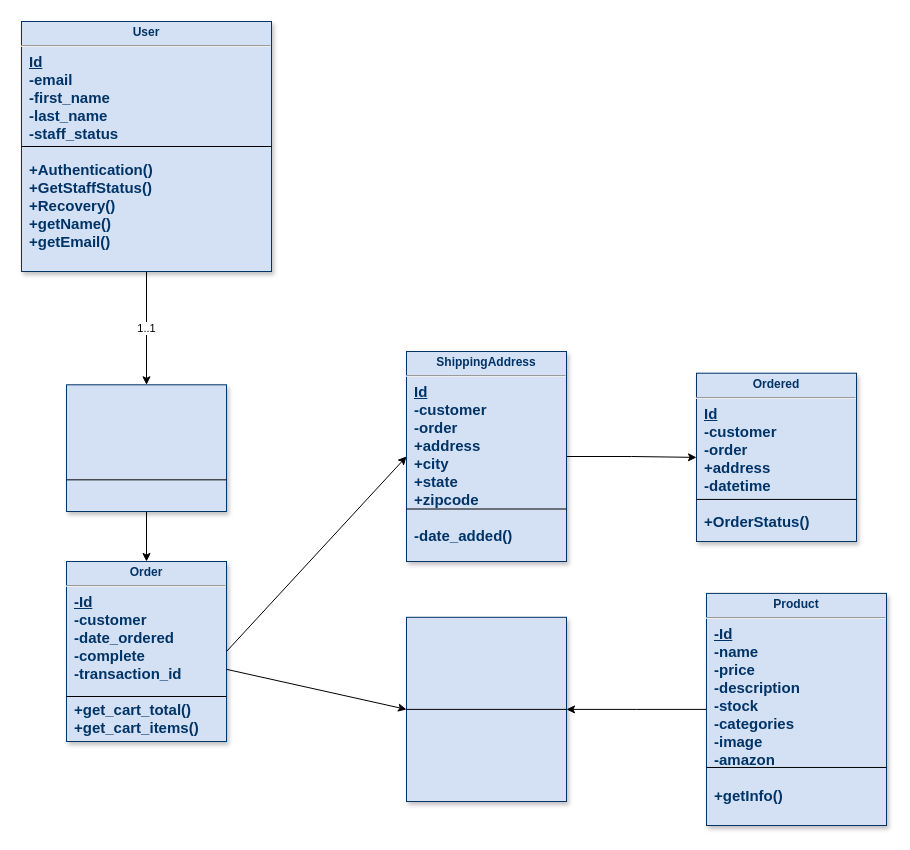
Image size: 910x850. Some labels were removed from this diagram. The centre of each missing label's shape, as x and y in pixels:
"Customer -Id -user -username +getUsername()" goes at pixel 147 449.
"OrderItem -Id -product -order +quantity() -date_added() +get_total()" goes at pixel 487 710.
